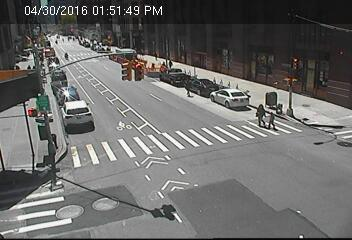neg: (90, 100, 117, 136), (279, 156, 306, 192), (143, 101, 167, 133), (84, 41, 108, 73), (288, 74, 311, 105), (121, 51, 143, 80), (175, 149, 196, 178), (145, 190, 166, 218), (250, 41, 270, 67), (183, 49, 202, 76), (36, 128, 54, 153), (224, 174, 242, 199), (45, 60, 62, 83)
pos: (249, 100, 268, 127), (183, 81, 197, 100), (267, 110, 280, 128)
